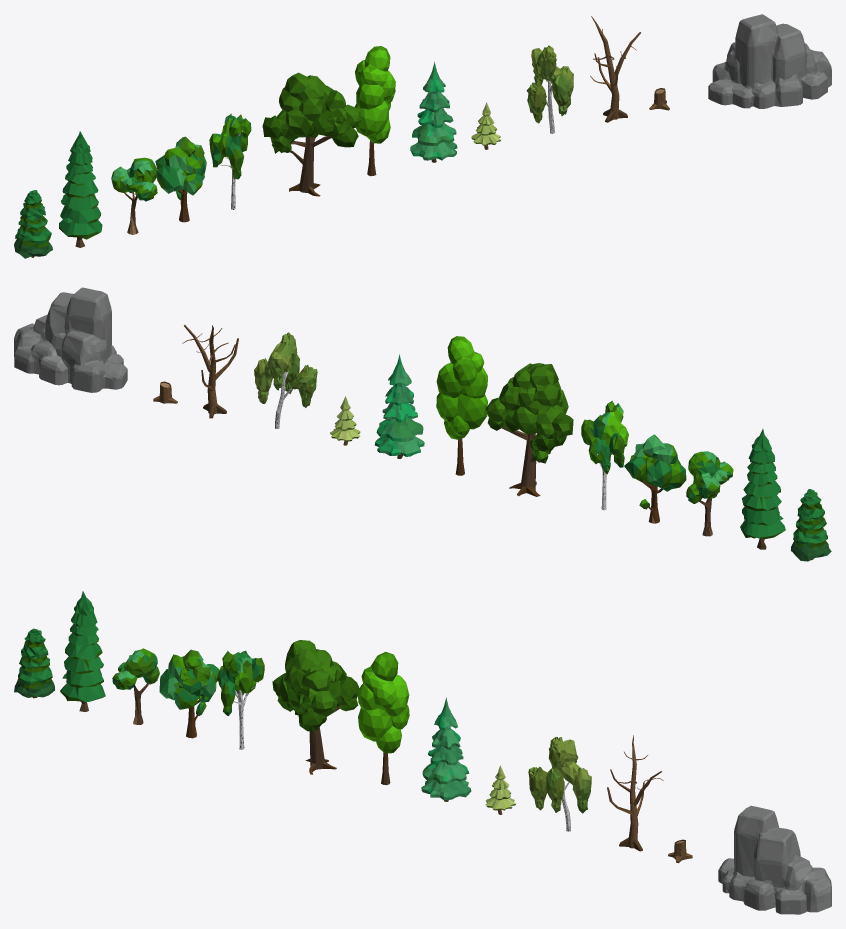
The model's file is low_poly_trees.glb.
The picture shows the model from 3 angles, top to bottom: view 1: azimuth 30°, elevation 25°; view 2: azimuth 150°, elevation 25°; view 3: azimuth 330°, elevation 25°; orthographic projection. The views are drawn at different scales.
Parts seen in each view (by area): view 1: Rock_1_, _6_tree, _7_tree, _2_tree, _8_tree, _4_tree, _10_tree, _5_tree, _1_tree, _3_tree, _11_tree, _9_tree; view 2: Rock_1_, _6_tree, _7_tree, _2_tree, _8_tree, _10_tree, _4_tree, _5_tree, _3_tree, _1_tree, _11_tree, _9_tree; view 3: Rock_1_, _6_tree, _7_tree, _2_tree, _10_tree, _8_tree, _4_tree, _5_tree, _1_tree, _3_tree, _11_tree, _9_tree.
Part boxes in pixels (left/top/right/bottom): Rock_1_: left=708, top=14, right=831, bottom=108; _6_tree: left=262, top=72, right=361, bottom=196; _7_tree: left=355, top=46, right=395, bottom=176; _2_tree: left=59, top=131, right=102, bottom=247; _8_tree: left=410, top=61, right=457, bottom=162; _4_tree: left=155, top=136, right=206, bottom=222; _10_tree: left=526, top=45, right=573, bottom=133; _5_tree: left=209, top=113, right=251, bottom=209; _1_tree: left=14, top=190, right=52, bottom=258; _3_tree: left=111, top=157, right=157, bottom=234; _11_tree: left=590, top=16, right=640, bottom=122; _9_tree: left=471, top=102, right=500, bottom=149; Rock_1_: left=14, top=287, right=127, bottom=392; _6_tree: left=485, top=363, right=573, bottom=496; _7_tree: left=436, top=336, right=487, bottom=475; _2_tree: left=740, top=429, right=785, bottom=549; _8_tree: left=374, top=354, right=424, bottom=458; _10_tree: left=254, top=332, right=317, bottom=428; _4_tree: left=624, top=434, right=686, bottom=523; _5_tree: left=581, top=400, right=628, bottom=510; _3_tree: left=686, top=451, right=733, bottom=536; _1_tree: left=790, top=489, right=831, bottom=561; _11_tree: left=182, top=325, right=238, bottom=418; _9_tree: left=330, top=396, right=360, bottom=445; Rock_1_: left=718, top=805, right=831, bottom=914; _6_tree: left=272, top=640, right=359, bottom=774; _7_tree: left=358, top=651, right=409, bottom=785; _2_tree: left=60, top=591, right=105, bottom=711; _10_tree: left=528, top=737, right=591, bottom=831; _8_tree: left=421, top=697, right=471, bottom=801; _4_tree: left=159, top=649, right=219, bottom=738; _5_tree: left=217, top=650, right=264, bottom=749; _1_tree: left=14, top=628, right=54, bottom=698; _3_tree: left=112, top=648, right=159, bottom=724; _11_tree: left=607, top=735, right=663, bottom=851; _9_tree: left=485, top=765, right=515, bottom=814.
Bounding box in the file's own units: 17.98 × 2.82 × 1.79.
13 materials, 13 textured.
